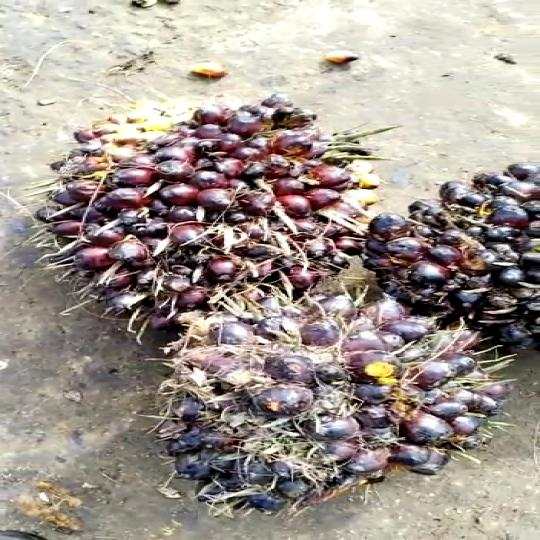kurang masak: (144, 293, 495, 530), (41, 93, 358, 350), (360, 140, 540, 362)
